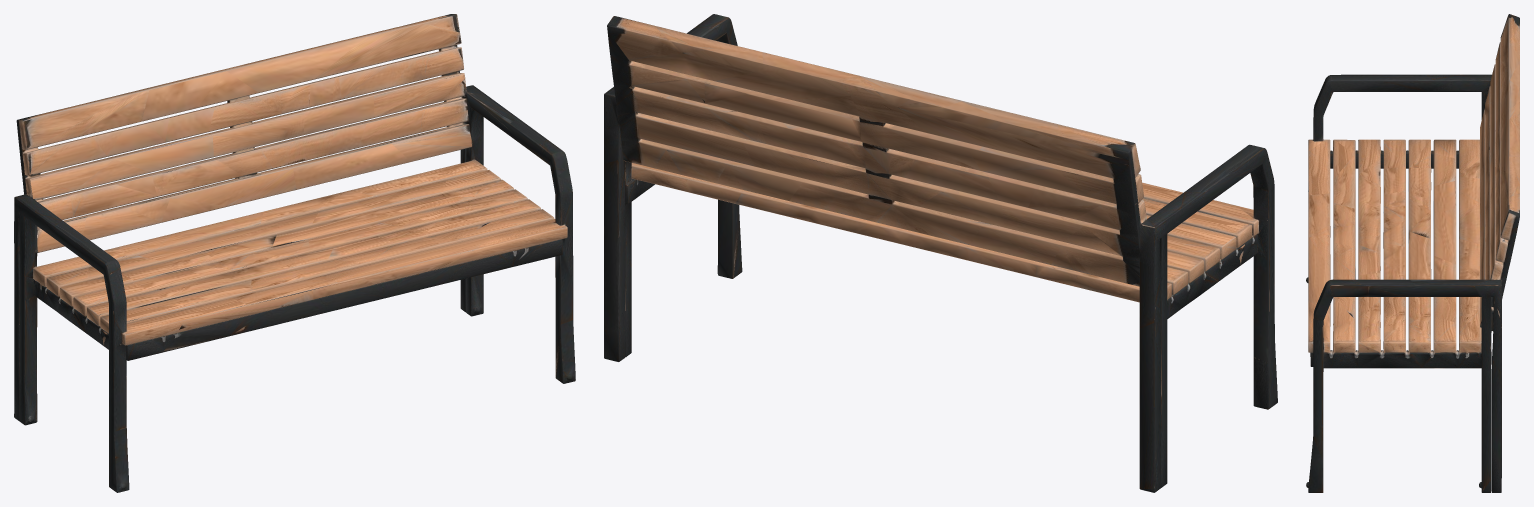
File: garden-bench.glb
The picture shows the model from 3 angles, left to right: view 1: azimuth 30°, elevation 25°; view 2: azimuth 150°, elevation 25°; view 3: azimuth 270°, elevation 25°; orthographic projection. The views are drawn at different scales.
Visible parts, largest first — view 1: Mesh_0; view 2: Mesh_0; view 3: Mesh_0.
Boxes of the visible parts, x1=… form: Mesh_0: x1=14, y1=14, x2=575, y2=492; Mesh_0: x1=604, y1=14, x2=1277, y2=492; Mesh_0: x1=1306, y1=14, x2=1519, y2=492.
Bounding box in the file's own units: 1.4 × 0.8498 × 0.6002.
Materials: 1 (1 with a texture image).
